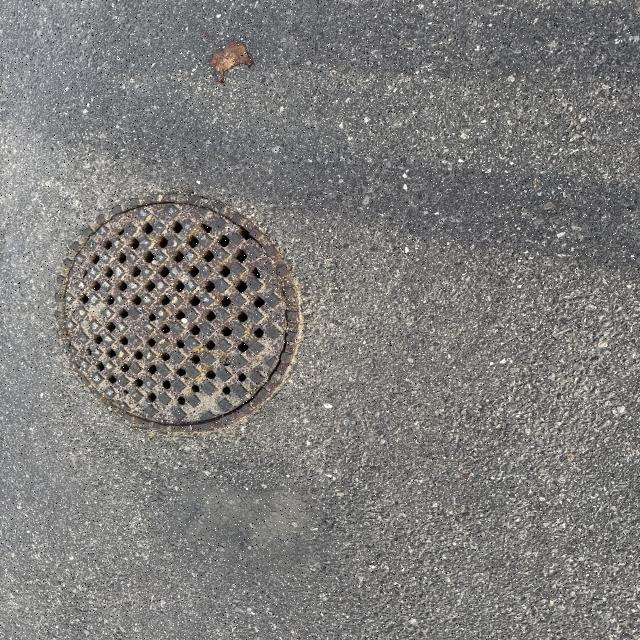Manhole: (51, 195, 309, 426)
